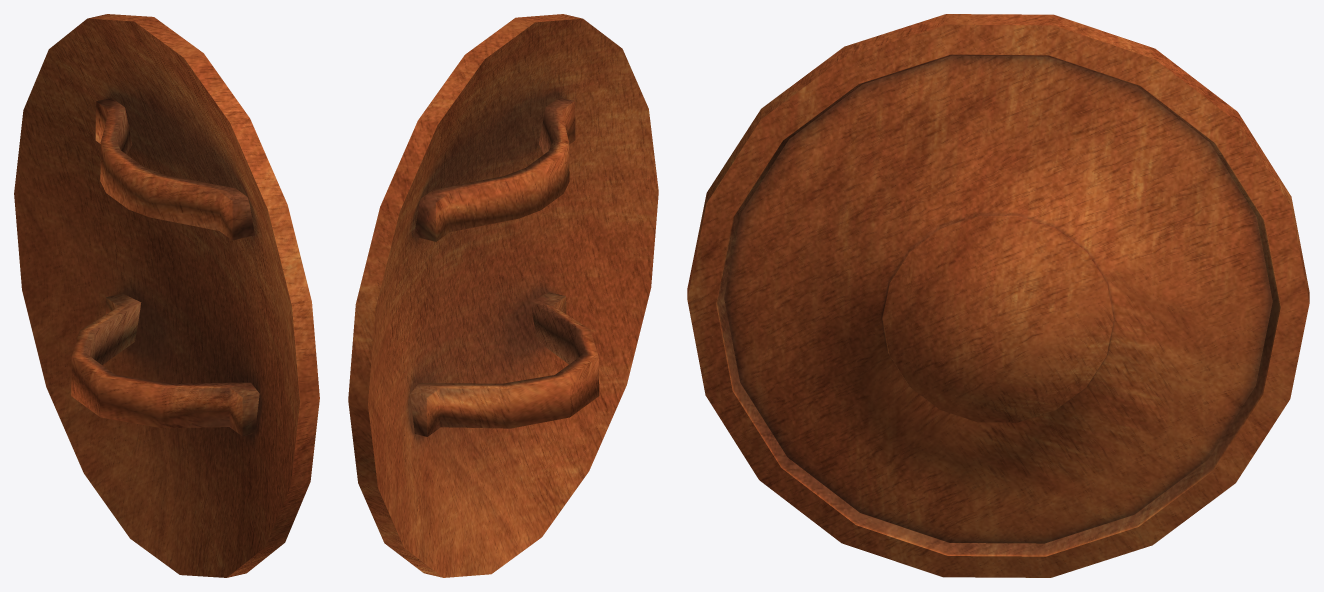
File: SM_ShieldProp.fbx
3 views of the same model, side by side, from view 1: azimuth 30°, elevation 25°; view 2: azimuth 150°, elevation 25°; view 3: azimuth 270°, elevation 25° (orthographic). The views are drawn at different scales.
Visible parts, largest first — view 1: SM_ShieldProp; view 2: SM_ShieldProp; view 3: SM_ShieldProp.
Part boxes in pixels (bbox=[...]): SM_ShieldProp: bbox=[14, 14, 319, 577]; SM_ShieldProp: bbox=[348, 14, 658, 577]; SM_ShieldProp: bbox=[687, 14, 1309, 577].
Bounding box in the file's own units: 18.44 × 57.5 × 58.32.
